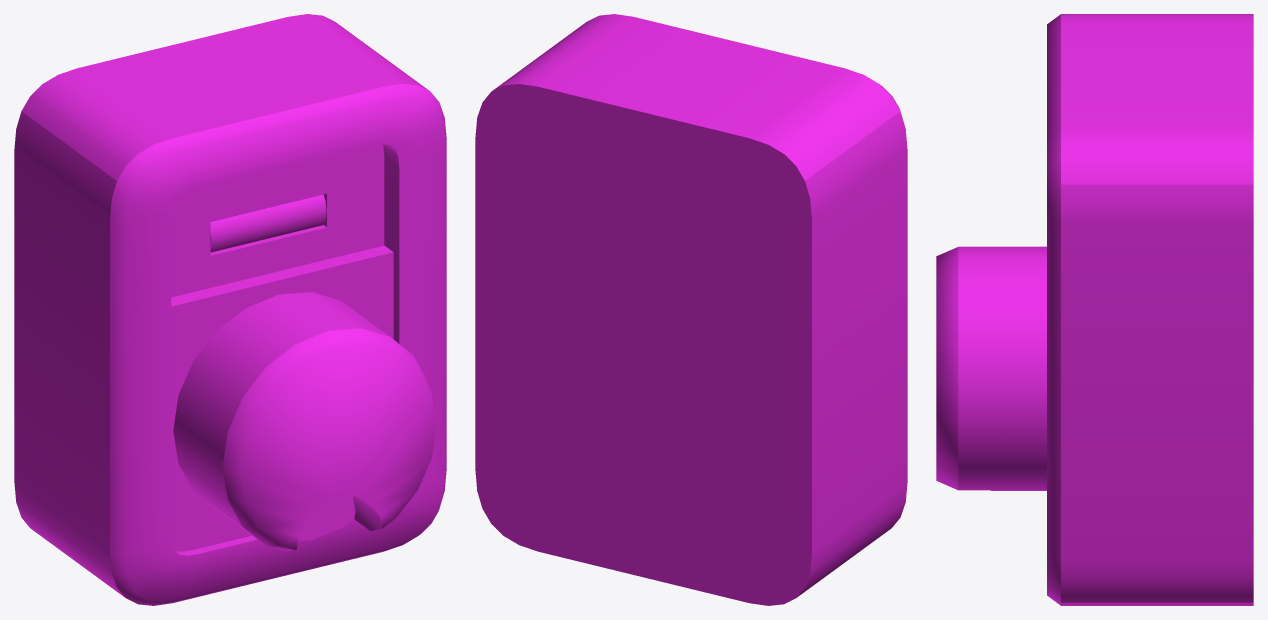
The model's file is SM_ElectricMeter.FBX.
3 renders of one model, left to right at view 1: azimuth 30°, elevation 25°; view 2: azimuth 150°, elevation 25°; view 3: azimuth 270°, elevation 25°, orthographic.
Parts seen in each view (by area): view 1: ElectricMeter; view 2: ElectricMeter; view 3: ElectricMeter.
Part boxes in pixels (x1,y1,x2,y2): ElectricMeter: (14, 14, 446, 605); ElectricMeter: (475, 14, 907, 605); ElectricMeter: (936, 14, 1253, 605).
Size of the model in its own units: 21.72 by 28.67 by 17.59.
